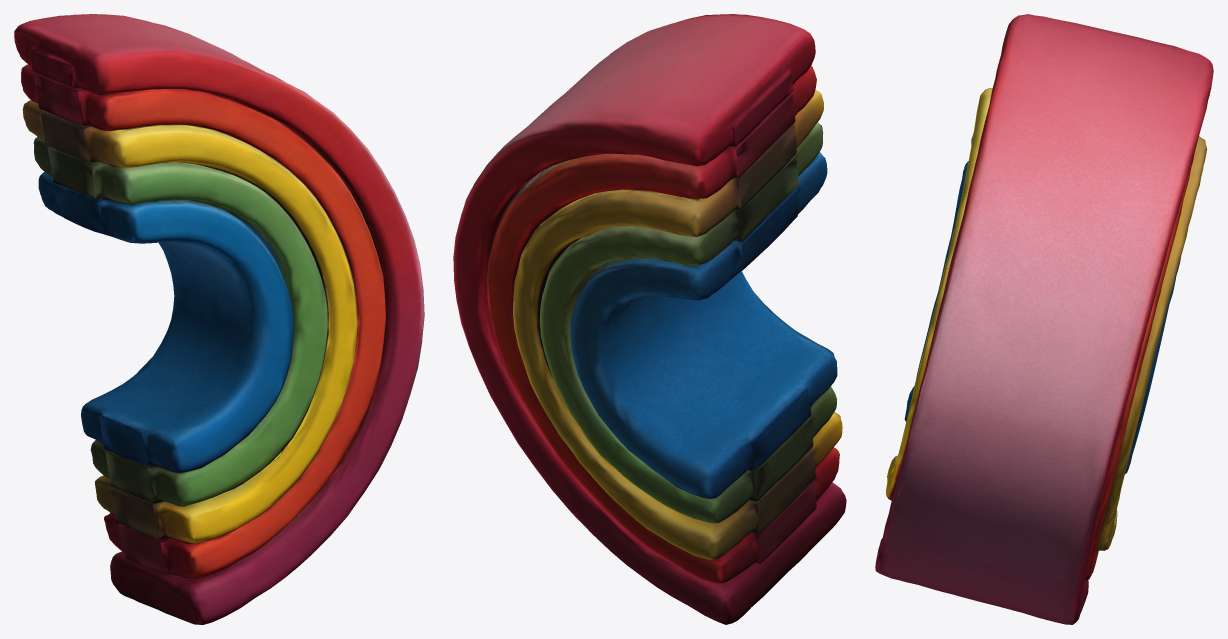
File: Stack 5C - Rainbow.glb
3 renders of one model, left to right at view 1: azimuth 30°, elevation 25°; view 2: azimuth 150°, elevation 25°; view 3: azimuth 270°, elevation 25°, orthographic. The views are drawn at different scales.
Visible parts, largest first — view 1: Stack 5C - Rainbow · mesh; view 2: Stack 5C - Rainbow · mesh; view 3: Stack 5C - Rainbow · mesh.
Boxes of the visible parts, x1,y1,x2,y2 form: Stack 5C - Rainbow · mesh: (14, 14, 424, 624); Stack 5C - Rainbow · mesh: (453, 14, 846, 624); Stack 5C - Rainbow · mesh: (875, 14, 1213, 624).
Size of the model in its own units: 0.5605 by 1 by 0.5356.
Materials: 1 (1 with a texture image).
